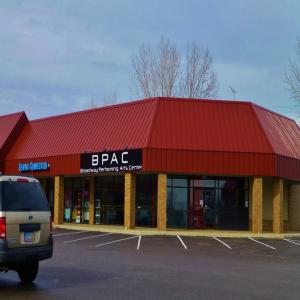Vehicle-registration-plate: (24, 232, 37, 244)
